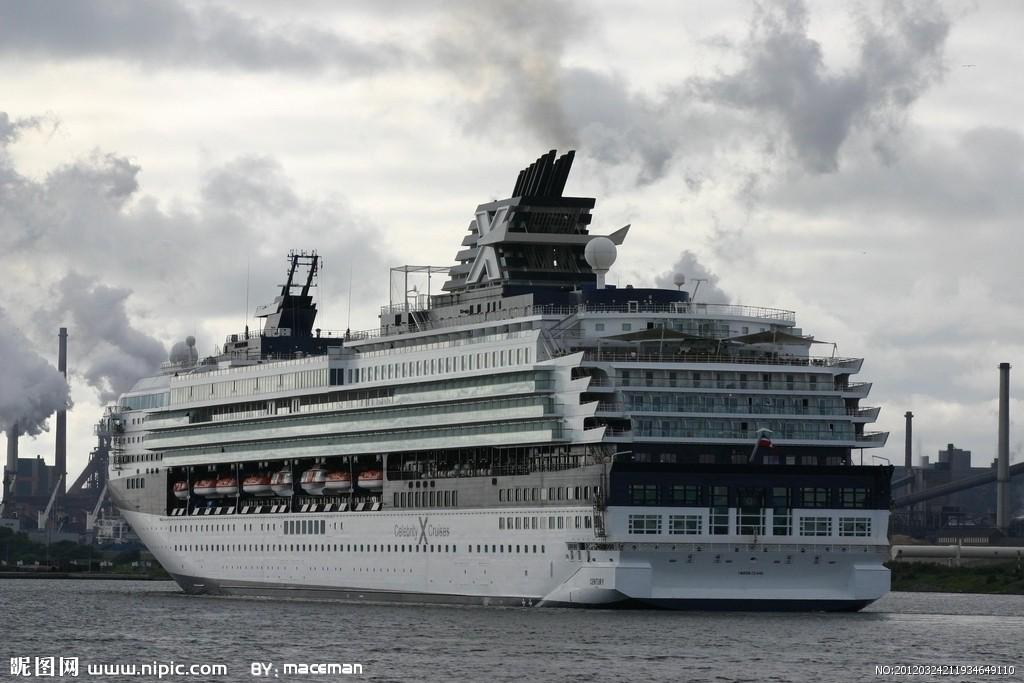youlun: (98, 144, 897, 609)
